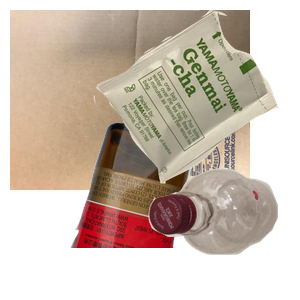cardboard: (10, 10, 250, 190)
glass: (68, 120, 255, 300)
plastic: (146, 166, 300, 300)
trash: (91, 10, 300, 186)
